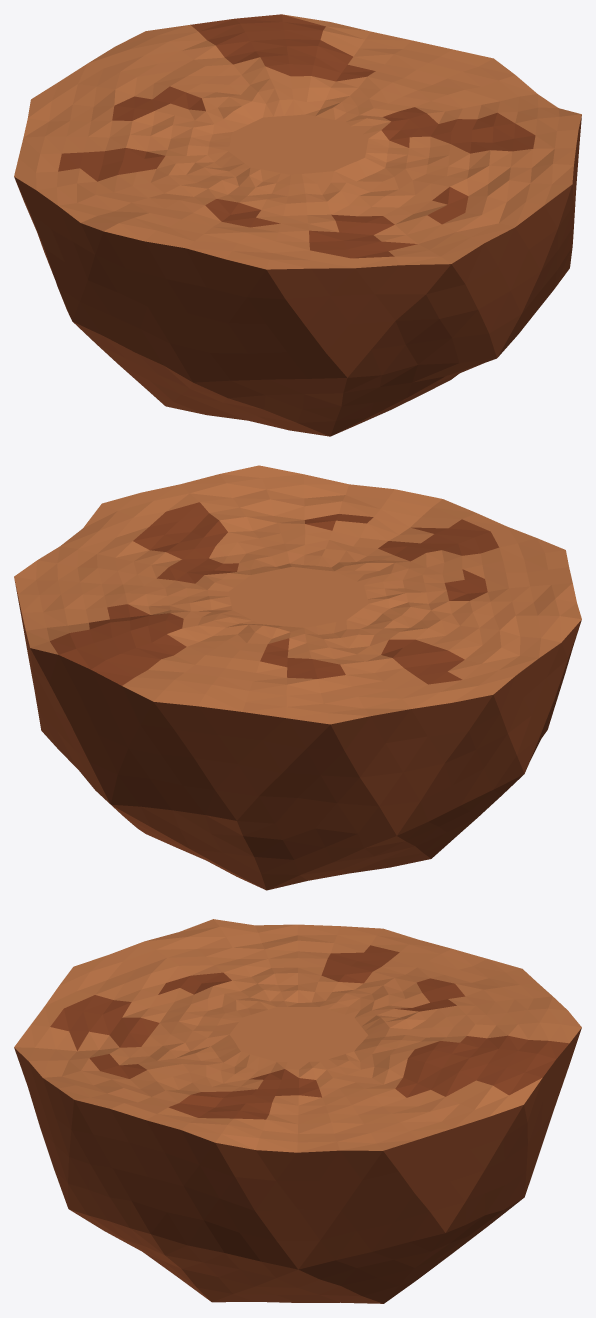
The model's file is Desert_Island.fbx.
The picture shows the model from 3 angles, top to bottom: view 1: azimuth 30°, elevation 25°; view 2: azimuth 150°, elevation 25°; view 3: azimuth 270°, elevation 25°; orthographic projection. The views are drawn at different scales.
Parts seen in each view (by area): view 1: Icosphere.002; view 2: Icosphere.002; view 3: Icosphere.002.
Part boxes in pixels (bbox=[...]): Icosphere.002: bbox=[14, 14, 581, 436]; Icosphere.002: bbox=[14, 465, 581, 890]; Icosphere.002: bbox=[14, 919, 581, 1303].
Size of the model in its own units: 4600 by 2594 by 4935.
